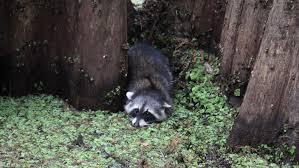raccoon: (111, 27, 187, 140)
